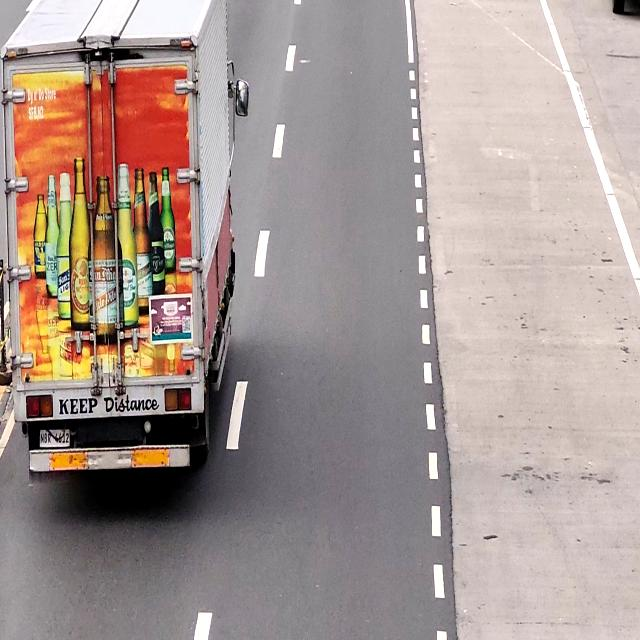License-Plate: (39, 430, 71, 450)
Truck: (0, 0, 236, 467)
